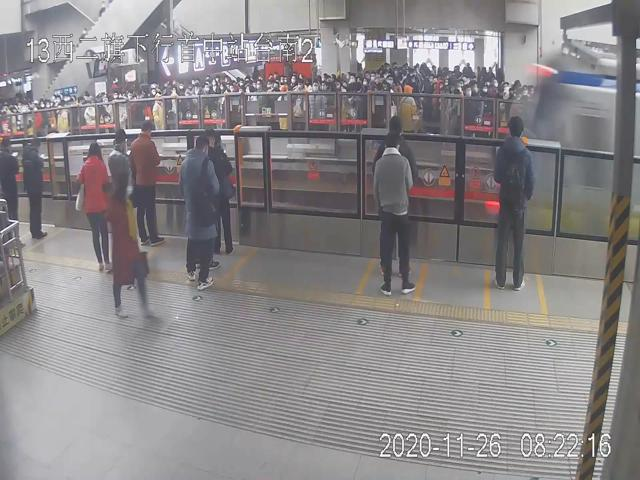person: (494, 114, 534, 291), (374, 134, 416, 295), (179, 136, 219, 291), (129, 121, 165, 245), (77, 141, 111, 272)
